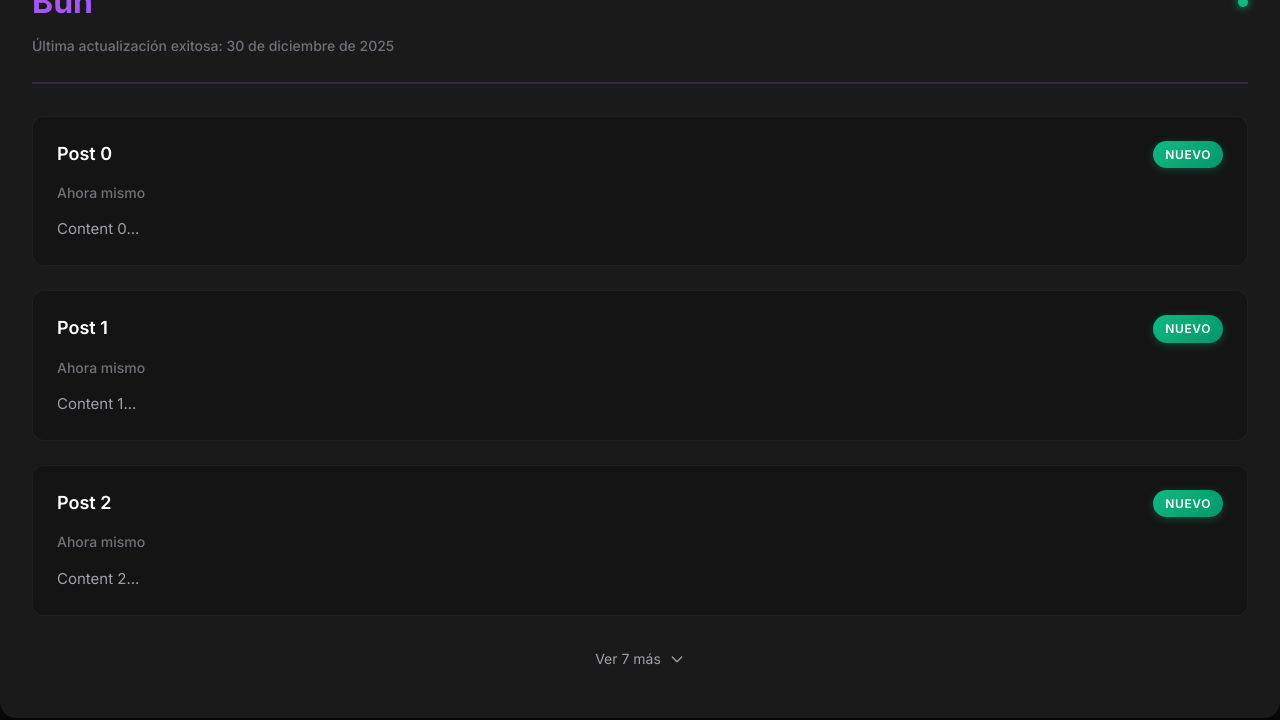
Test case: FeedCard › expands to show all posts when button is clicked
This screenshot has width=1280, height=720.
(page scrolled)
Click the button "Ver 7 más".
click(640, 659)  # box [32,632,1248,686]
(page scrolled)
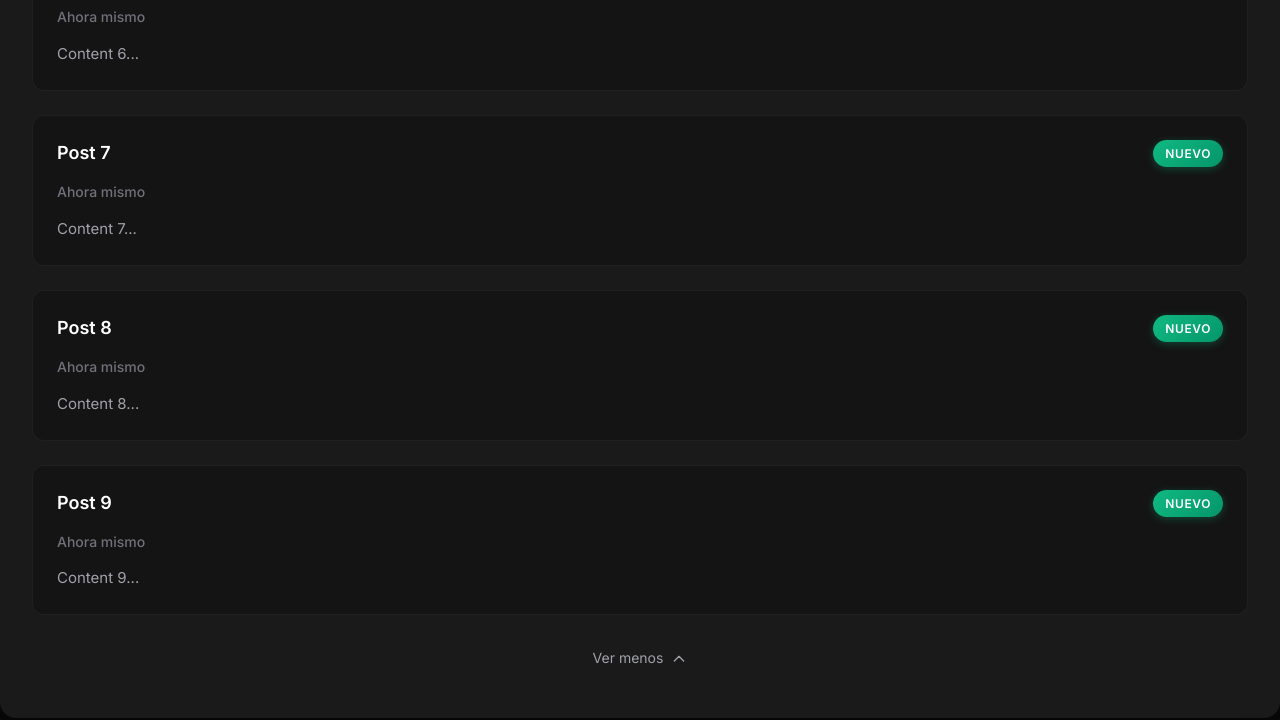
Expected: the number of elements with test id "post-card" is 10
Expected: the text "Ver menos" is shown, [593,647,663,670]
